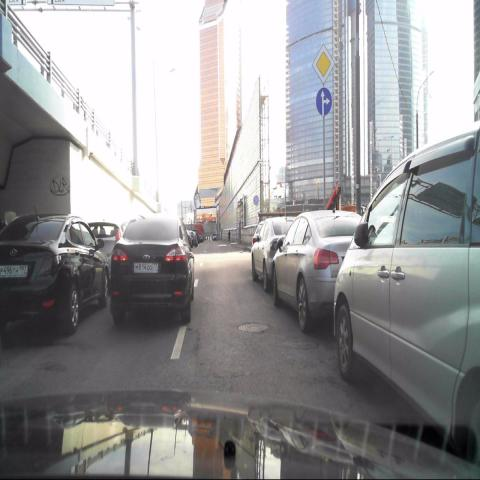4_1_4: (315, 85, 332, 117)
